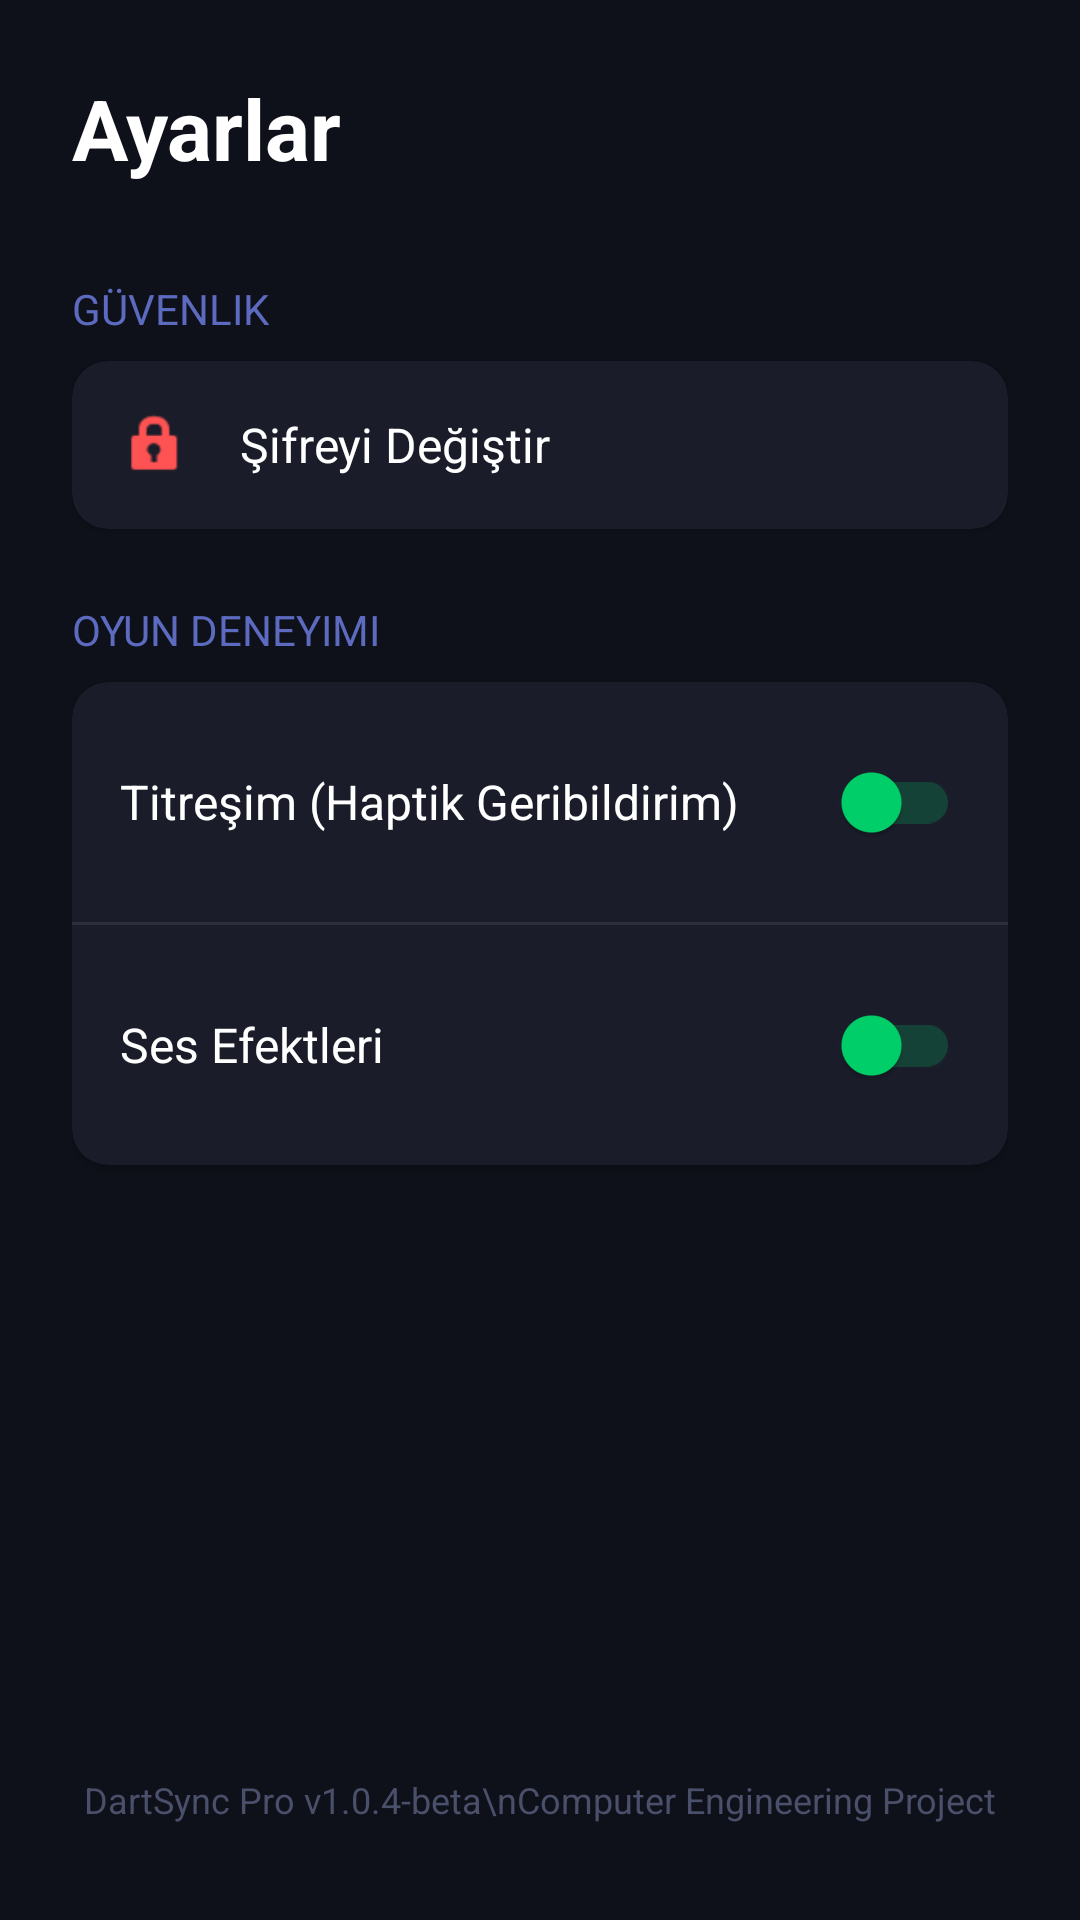

Point at icon controls on the screen. Image size 1080 x 1920, points as [x,y].
lock idle: [154,442]
